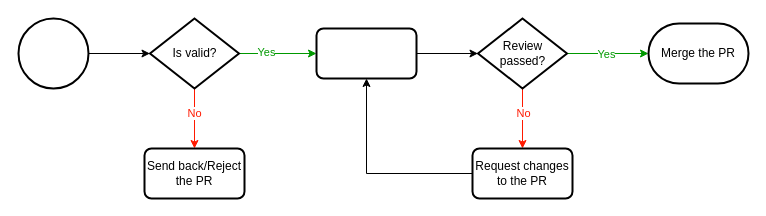
This 766x216 diagram has some shape labels left out. The box of each missing label's shape, as (x1, y1, x2, y2) in pixels:
New PR: (17, 17, 89, 89)
Review the PR: (315, 27, 417, 79)
